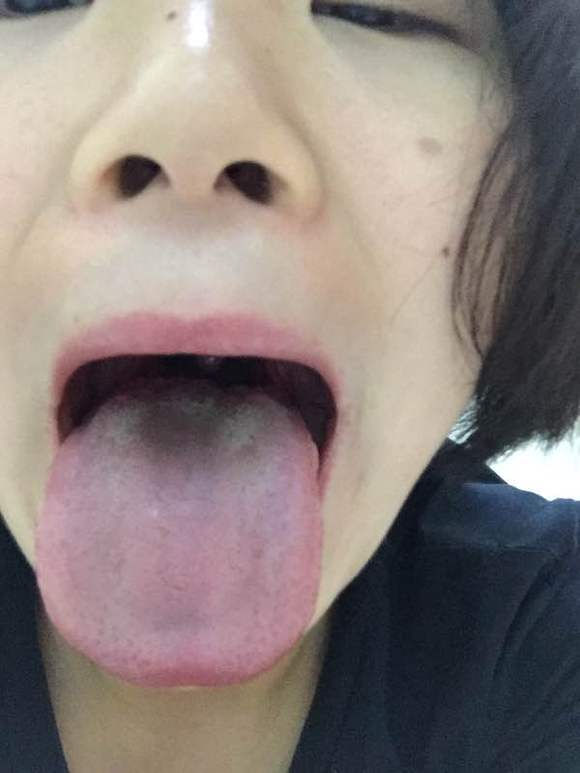baitaishe: (35, 383, 321, 684)
